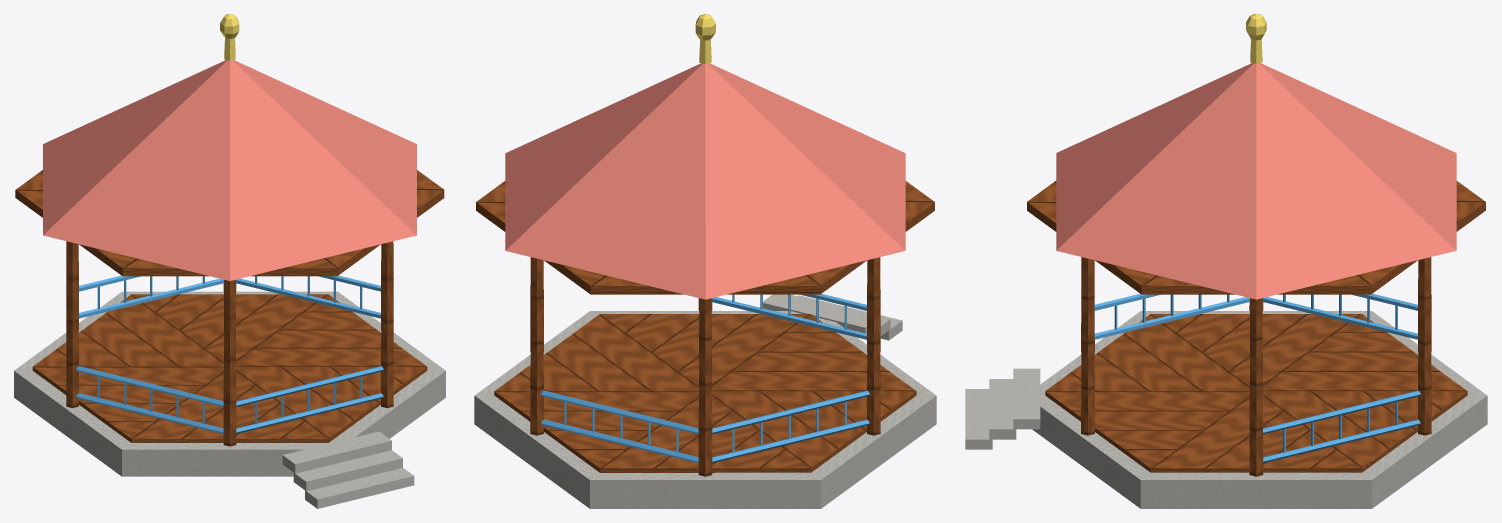
Rendered from 33686-Hexagonal-Park-Bandstand-City-Park-and-Playground.glb.
3 views of the same model, side by side, from view 1: azimuth 30°, elevation 25°; view 2: azimuth 150°, elevation 25°; view 3: azimuth 270°, elevation 25° (orthographic). The views are drawn at different scales.
Visible parts, largest first — view 1: park-bandstand-poppy, park-bandstand-timber, park-bandstand-paving, park-bandstand-azure, park-bandstand-sunflower; view 2: park-bandstand-poppy, park-bandstand-timber, park-bandstand-paving, park-bandstand-azure, park-bandstand-sunflower; view 3: park-bandstand-poppy, park-bandstand-timber, park-bandstand-paving, park-bandstand-azure, park-bandstand-sunflower.
Part boxes in pixels (x1=…): park-bandstand-poppy: x1=43, y1=60, x2=416, y2=280; park-bandstand-timber: x1=15, y1=170, x2=444, y2=446; park-bandstand-paving: x1=14, y1=291, x2=445, y2=508; park-bandstand-azure: x1=76, y1=275, x2=383, y2=433; park-bandstand-sunflower: x1=220, y1=14, x2=239, y2=60; park-bandstand-poppy: x1=505, y1=63, x2=905, y2=299; park-bandstand-timber: x1=476, y1=181, x2=934, y2=476; park-bandstand-paving: x1=474, y1=294, x2=936, y2=508; park-bandstand-azure: x1=541, y1=293, x2=869, y2=463; park-bandstand-sunflower: x1=695, y1=14, x2=715, y2=64; park-bandstand-poppy: x1=1056, y1=63, x2=1456, y2=299; park-bandstand-timber: x1=1027, y1=180, x2=1485, y2=476; park-bandstand-paving: x1=965, y1=311, x2=1487, y2=508; park-bandstand-azure: x1=1094, y1=293, x2=1420, y2=463; park-bandstand-sunflower: x1=1246, y1=14, x2=1266, y2=63.
Bounding box in the file's own units: 5.8 × 5.68 × 6.55.
5 materials, 2 textured.
